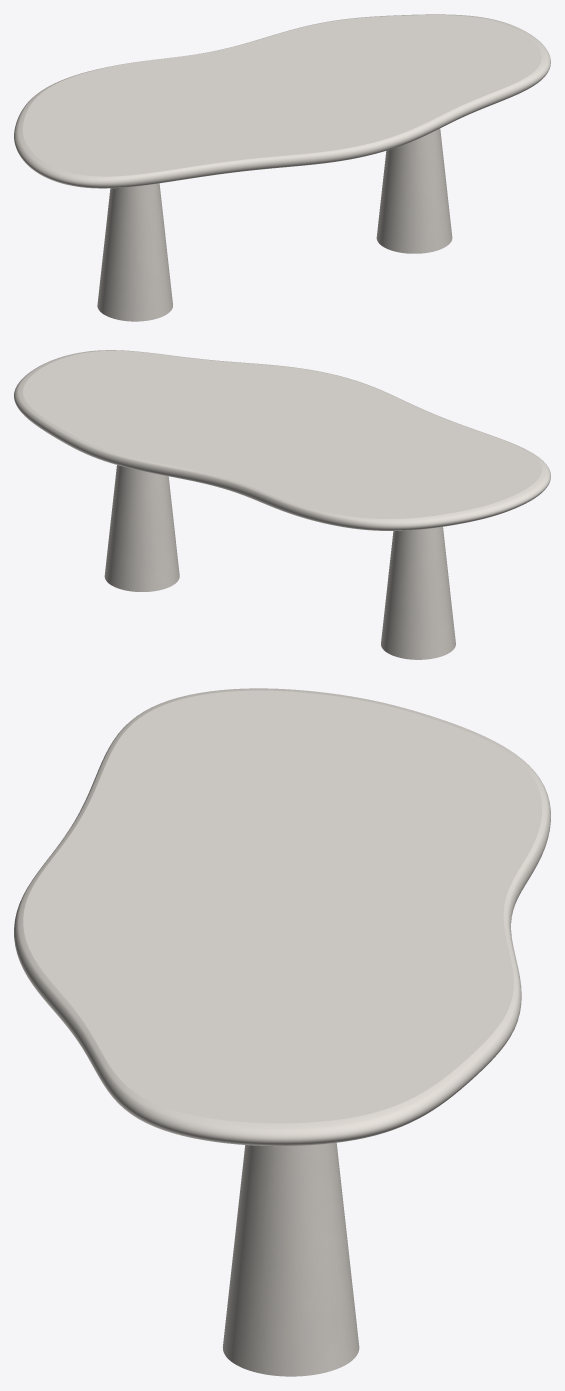
The model's file is pearlwhite_toplast_round_pebble.glb.
The picture shows the model from 3 angles, top to bottom: view 1: azimuth 30°, elevation 25°; view 2: azimuth 150°, elevation 25°; view 3: azimuth 270°, elevation 25°; orthographic projection. The views are drawn at different scales.
Parts seen in each view (by area): view 1: round_toplast, pebble; view 2: round_toplast, pebble; view 3: round_toplast, pebble.
Boxes of the visible parts, x1,y1,x2,y2 form: round_toplast: [14, 14, 550, 188]; pebble: [97, 128, 452, 321]; round_toplast: [14, 350, 550, 530]; pebble: [104, 465, 455, 659]; round_toplast: [14, 688, 550, 1146]; pebble: [222, 1142, 359, 1376].
Size of the model in its own units: 7.5 by 2.5 by 3.8.
Materials: 1 (1 with a texture image).
